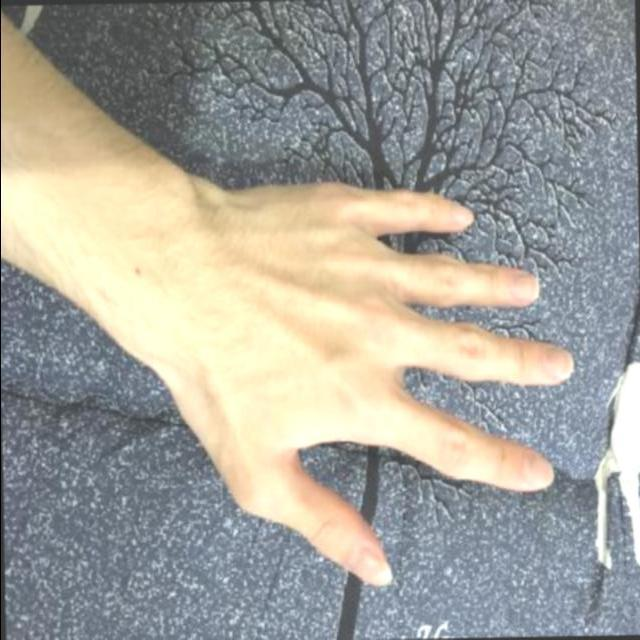hand: (125, 163, 606, 606)
